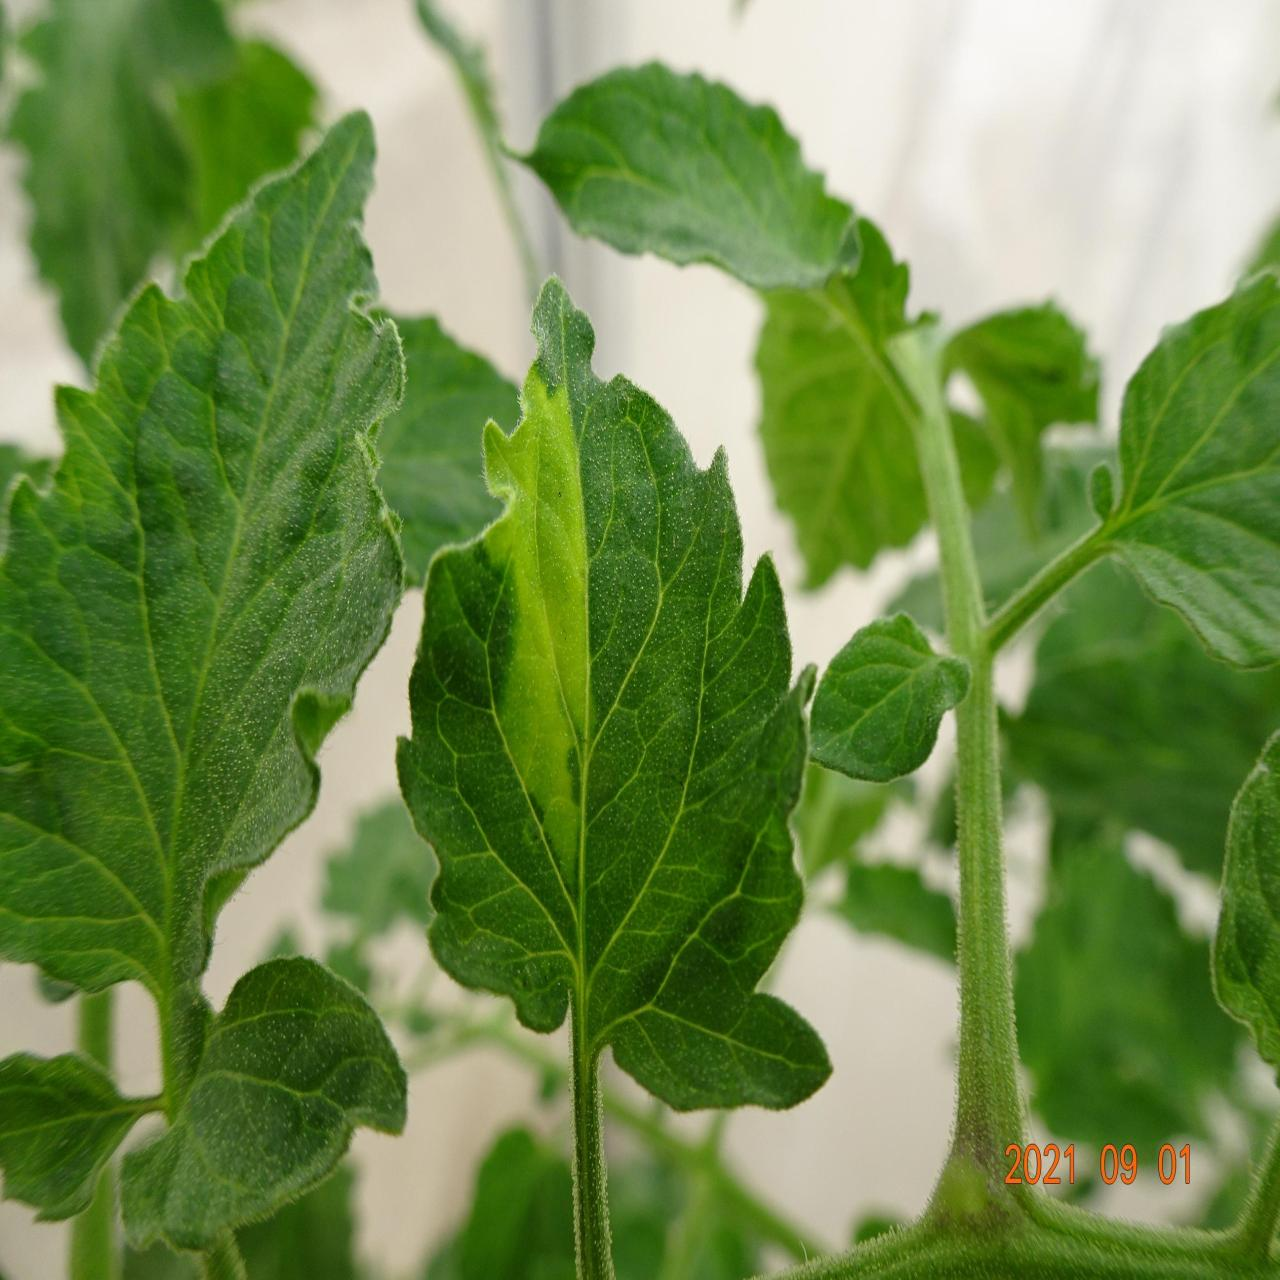T_L_R: (1, 109, 408, 1126), (394, 284, 836, 1117), (121, 958, 409, 1251)
T_S_H: (920, 406, 1068, 1280)
